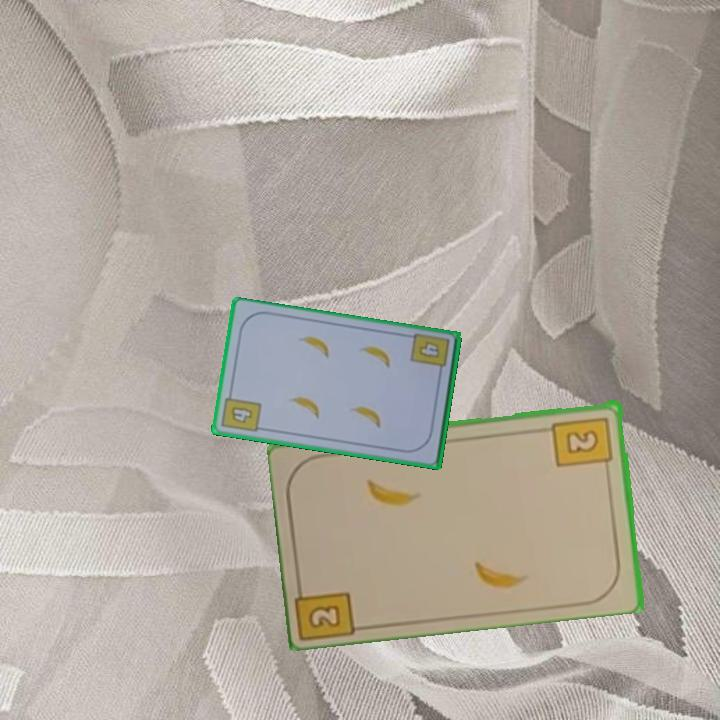2b: (294, 575, 361, 640), (550, 413, 615, 474)
4b: (218, 387, 264, 435), (407, 330, 452, 378)
